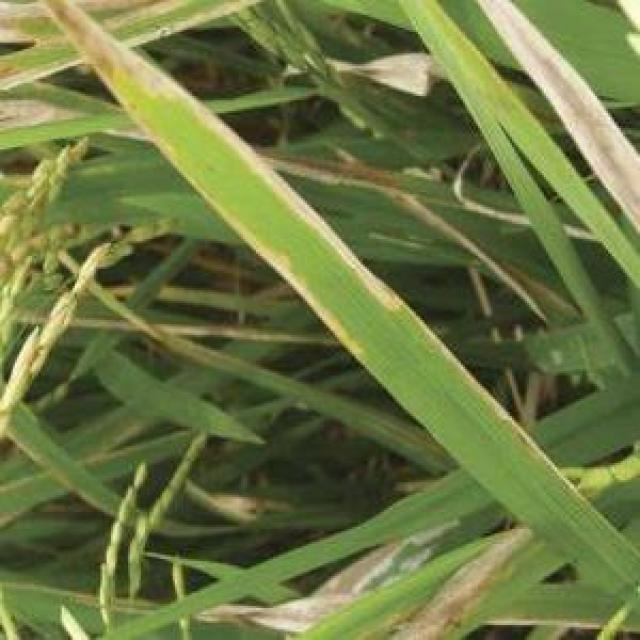Bacterial_Blight: (47, 0, 401, 314), (47, 0, 257, 248), (469, 0, 639, 230), (243, 240, 365, 360)
